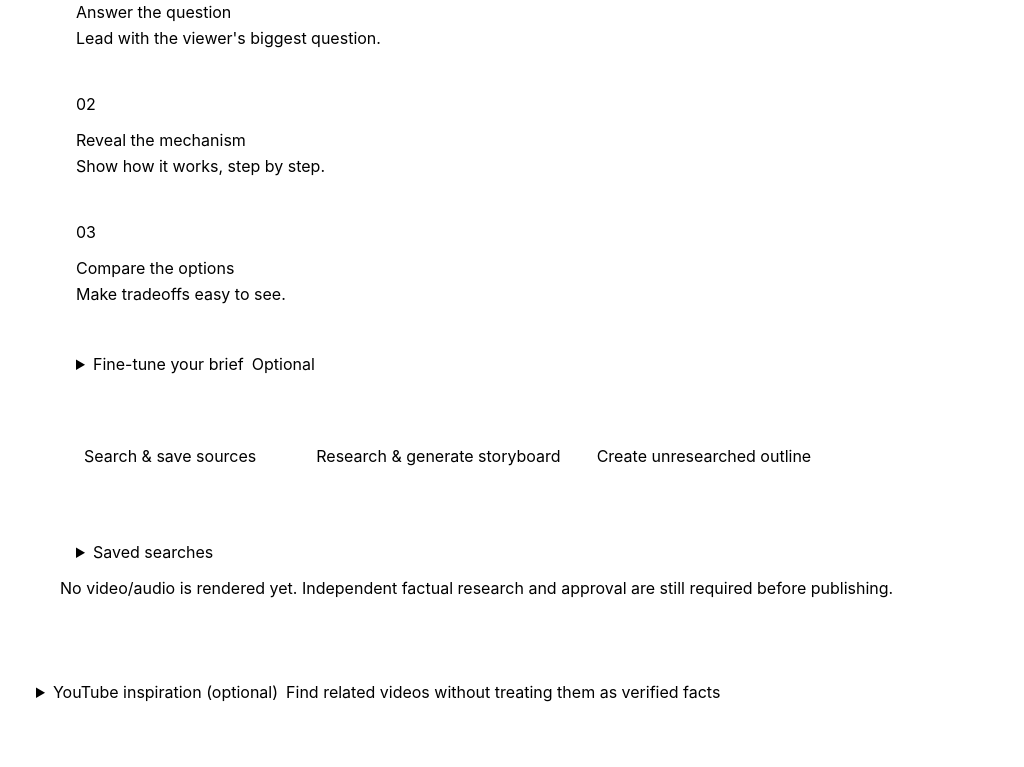
Test: Studio Research to source-backed story › reports research errors and never invents a source-backed storyboard
The width and height of the screenshot is (1024, 767).
(page scrolled)
Click the button "Research & generate storyboard": (438,456) left=292, top=432, right=585, bottom=480
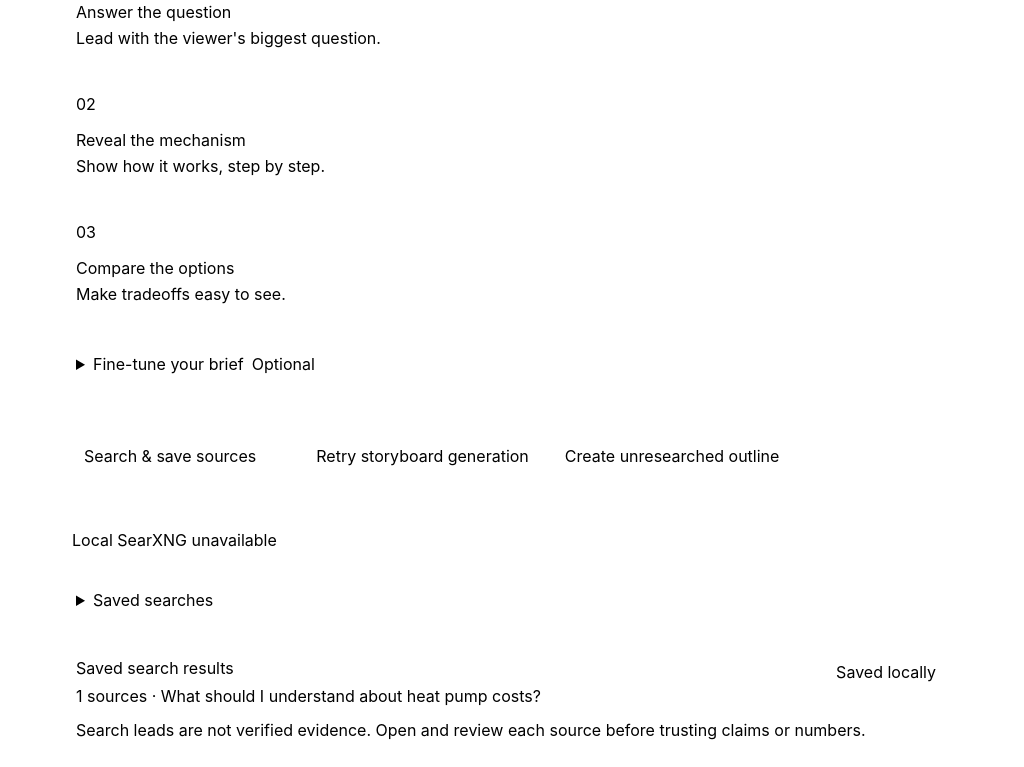
Expected: the message reads "Local SearXNG unavailable", left=72, top=530, right=277, bottom=550
